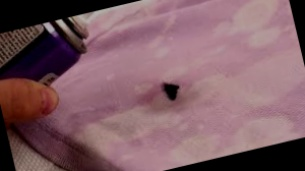ink: (159, 80, 182, 103)
